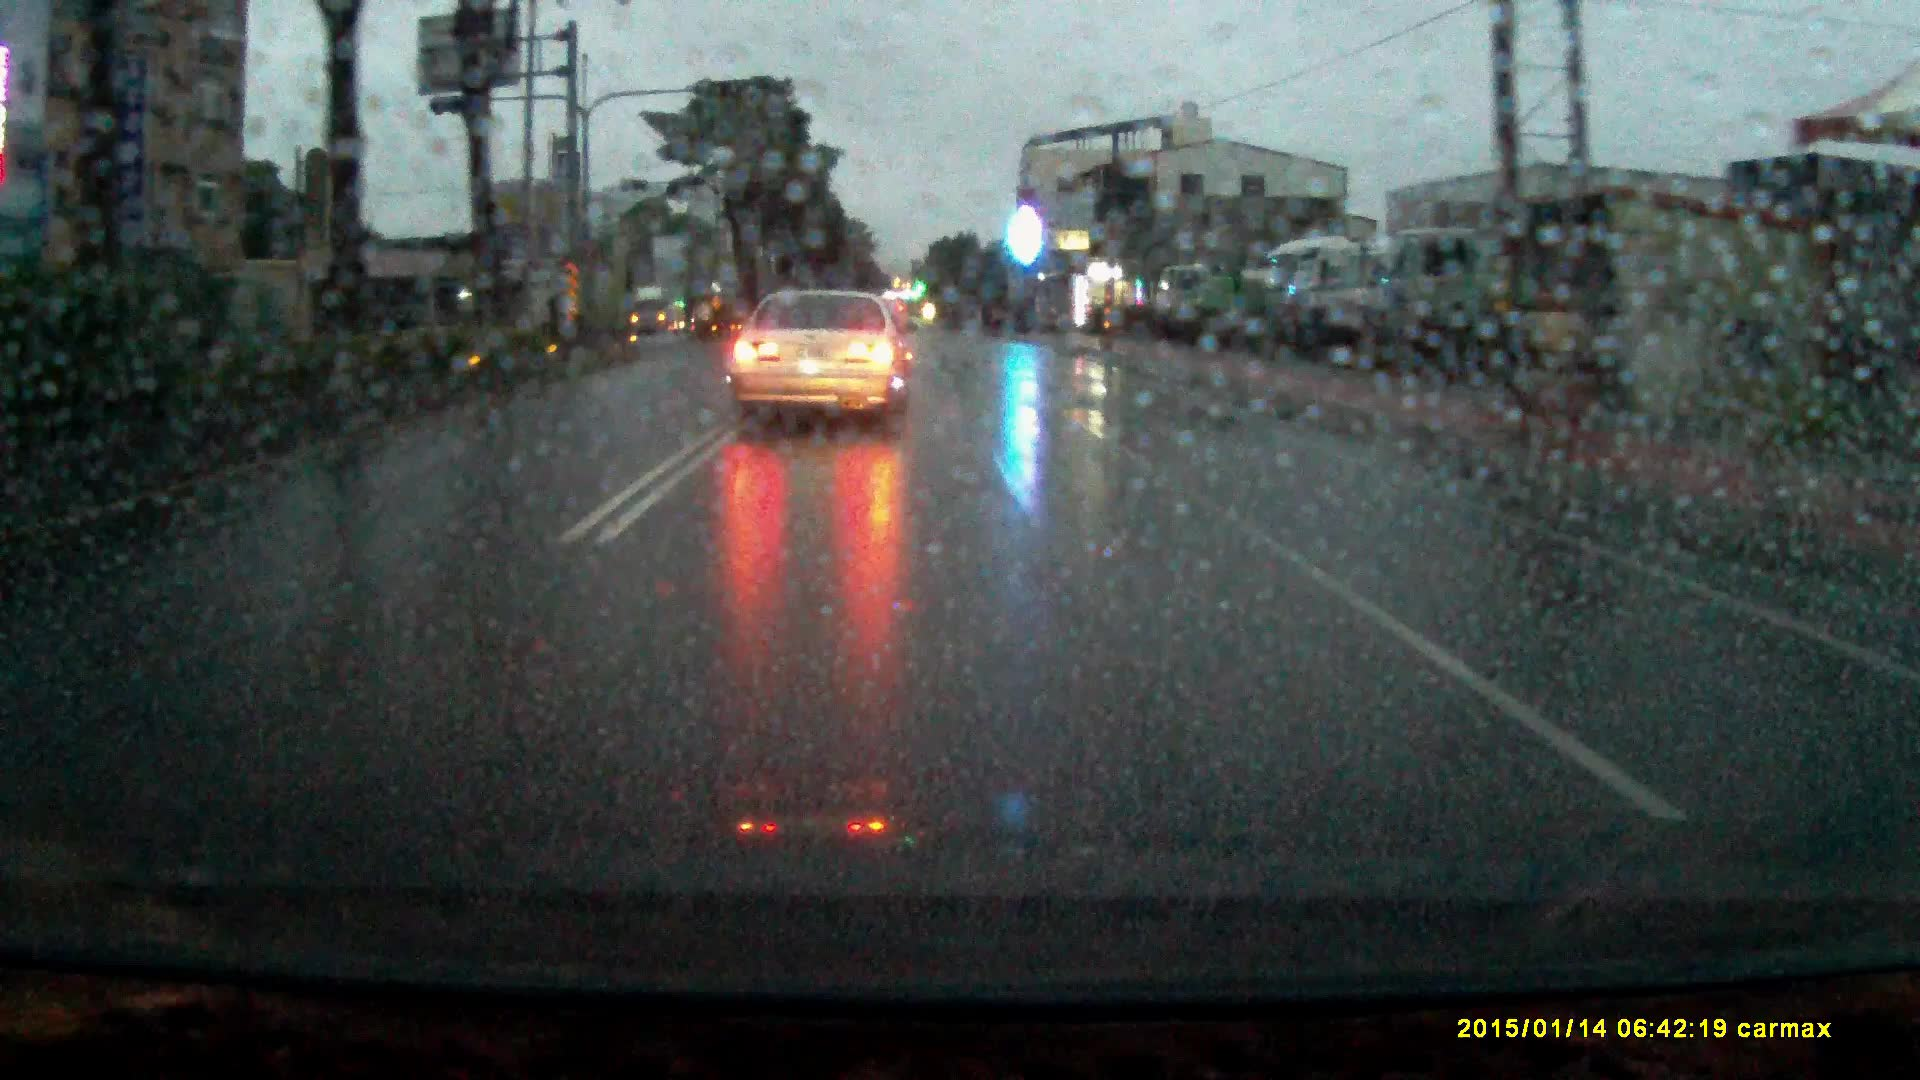vehicle: (729, 286, 918, 438), (1378, 229, 1491, 368), (1269, 237, 1354, 345), (1305, 243, 1385, 357), (1159, 261, 1217, 336), (1196, 276, 1275, 326), (633, 286, 688, 334)
